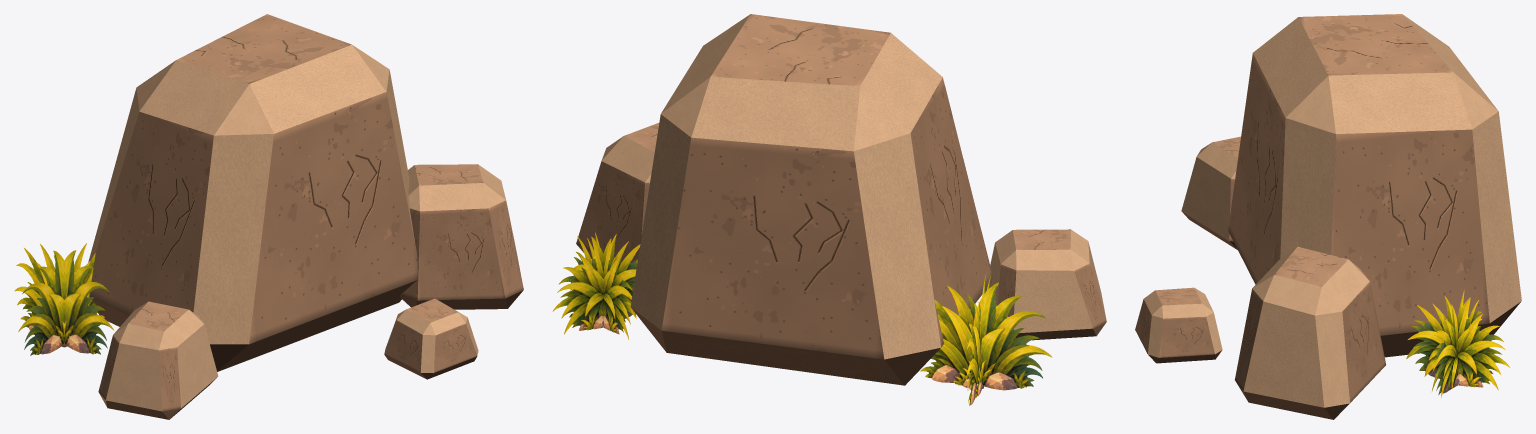
Rendered from Rock1.fbx.
3 views of the same model, side by side, from view 1: azimuth 30°, elevation 25°; view 2: azimuth 150°, elevation 25°; view 3: azimuth 270°, elevation 25° (orthographic). The views are drawn at different scales.
Parts seen in each view (by area): view 1: Rock1_Body, Rock1_Grass; view 2: Rock1_Body, Rock1_Grass; view 3: Rock1_Body, Rock1_Grass.
Part boxes in pixels (bbox=[...]): Rock1_Body: bbox=[88, 14, 523, 419]; Rock1_Grass: bbox=[14, 243, 114, 355]; Rock1_Body: bbox=[576, 14, 1106, 385]; Rock1_Grass: bbox=[552, 232, 1052, 405]; Rock1_Body: bbox=[1135, 14, 1521, 419]; Rock1_Grass: bbox=[1406, 289, 1509, 397].
Bounding box in the file's own units: 1.51 × 0.8182 × 1.05.
Materials: 2 (2 with a texture image).
